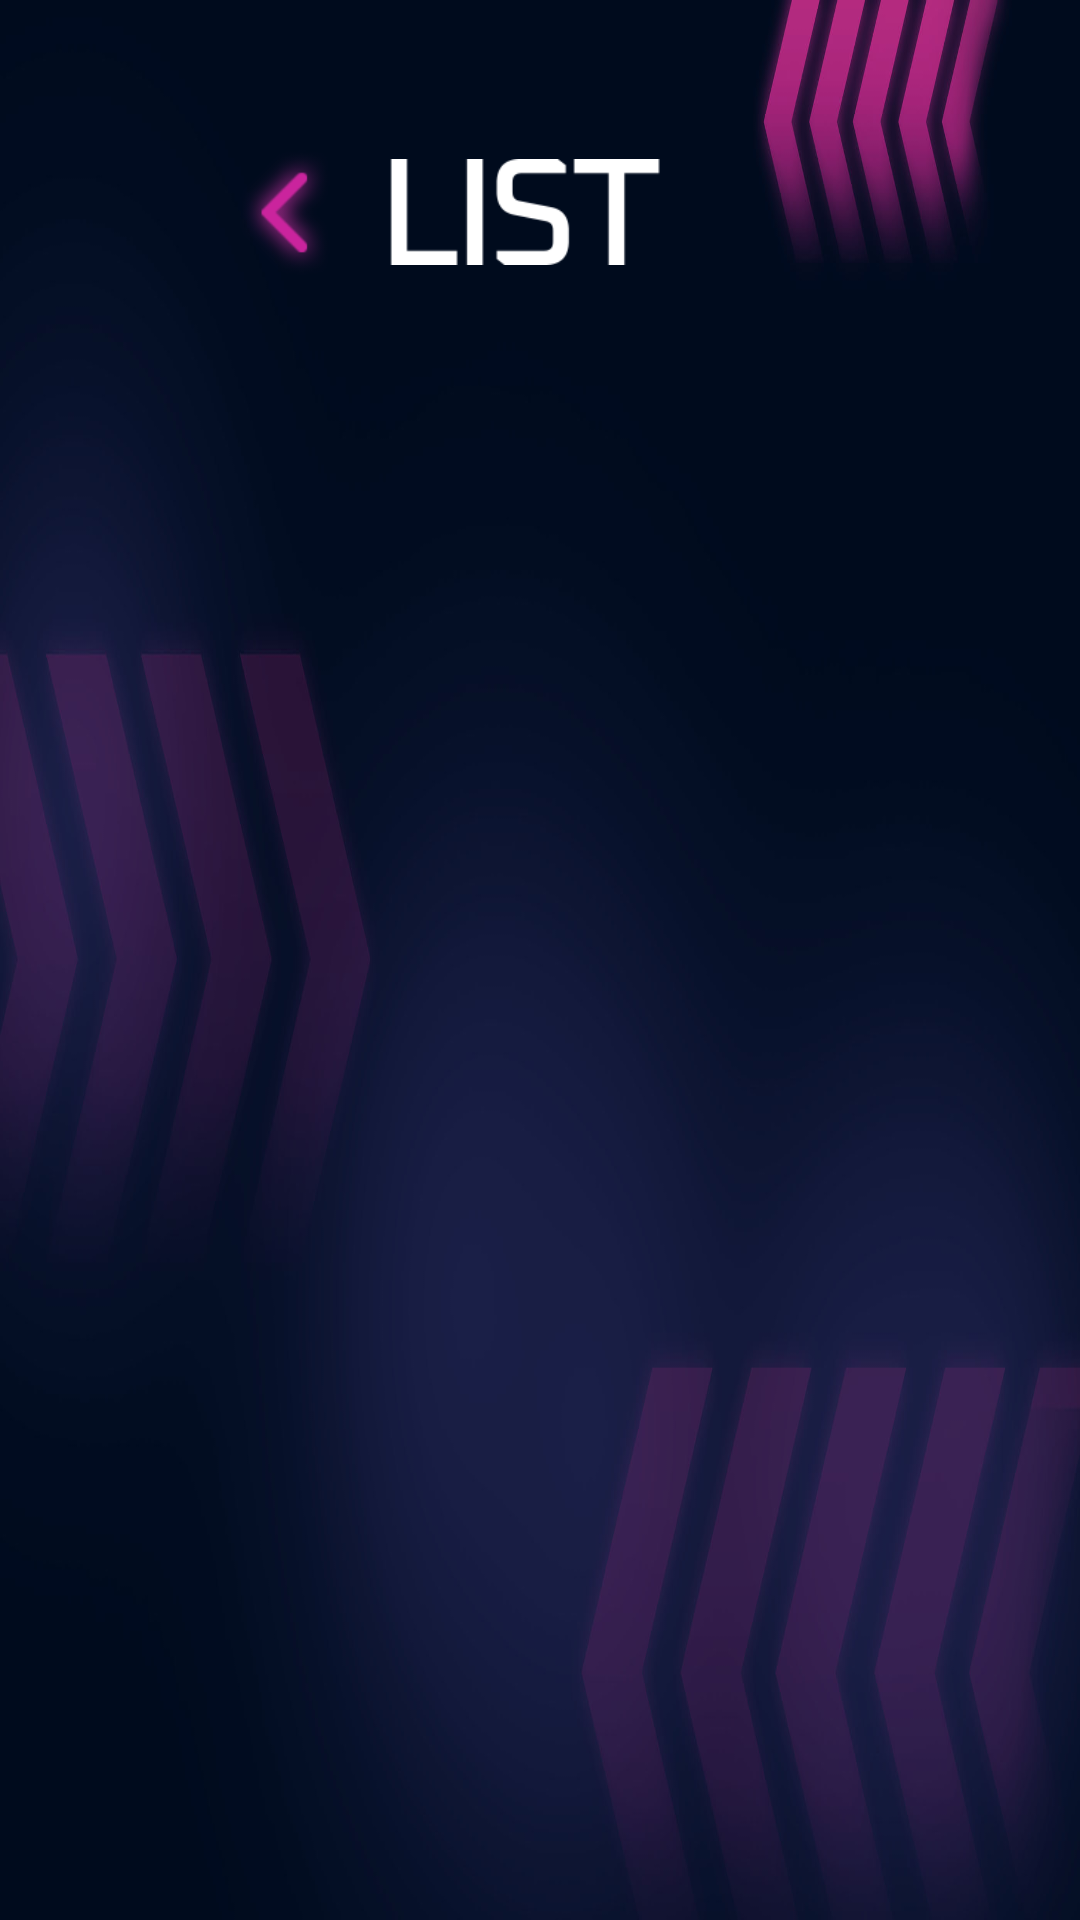

Where icons sit on this 1080 x 1920 app screen, as (x1, y1, x2, y2):
back: (252, 165, 315, 260)
